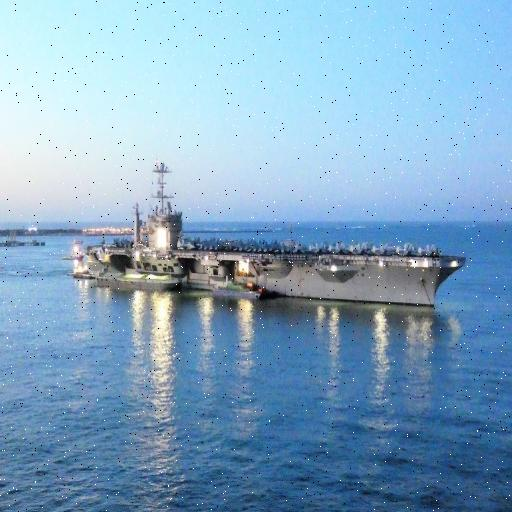Portanaves: (67, 157, 470, 307)
